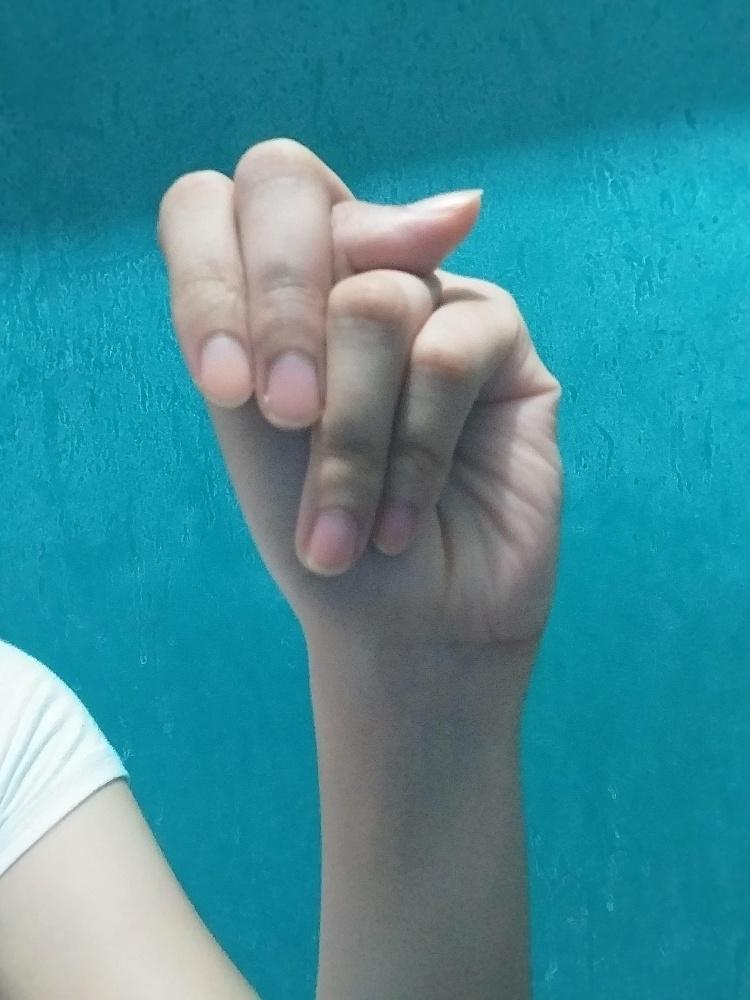n: (155, 135, 575, 662)
